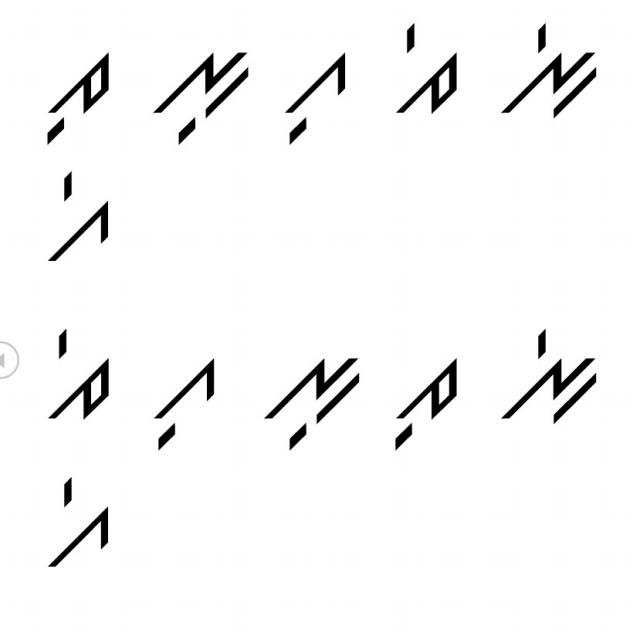ge: (36, 471, 121, 577), (30, 170, 119, 269)
gu: (269, 42, 353, 146), (144, 341, 222, 451)
nge: (491, 323, 604, 434), (488, 19, 604, 127)
ngu: (144, 36, 256, 147), (259, 343, 367, 456)
te: (38, 318, 119, 431), (385, 20, 475, 120)
tu: (28, 42, 114, 144), (386, 341, 462, 455)
